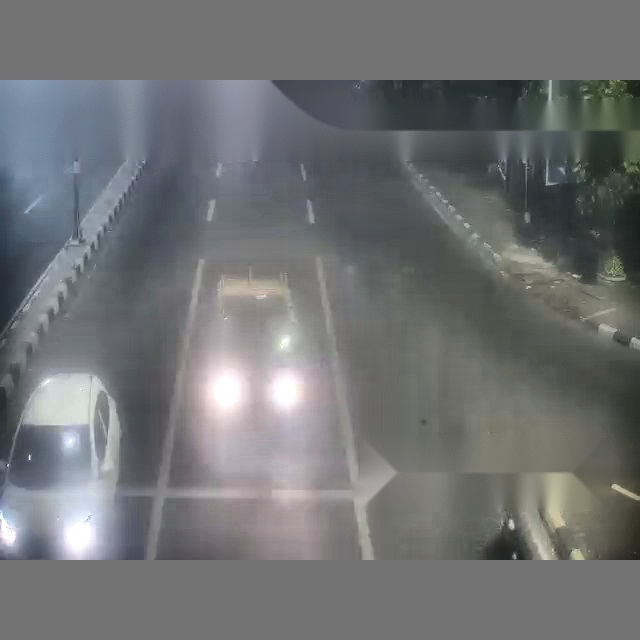Mobil: (0, 372, 120, 556)
